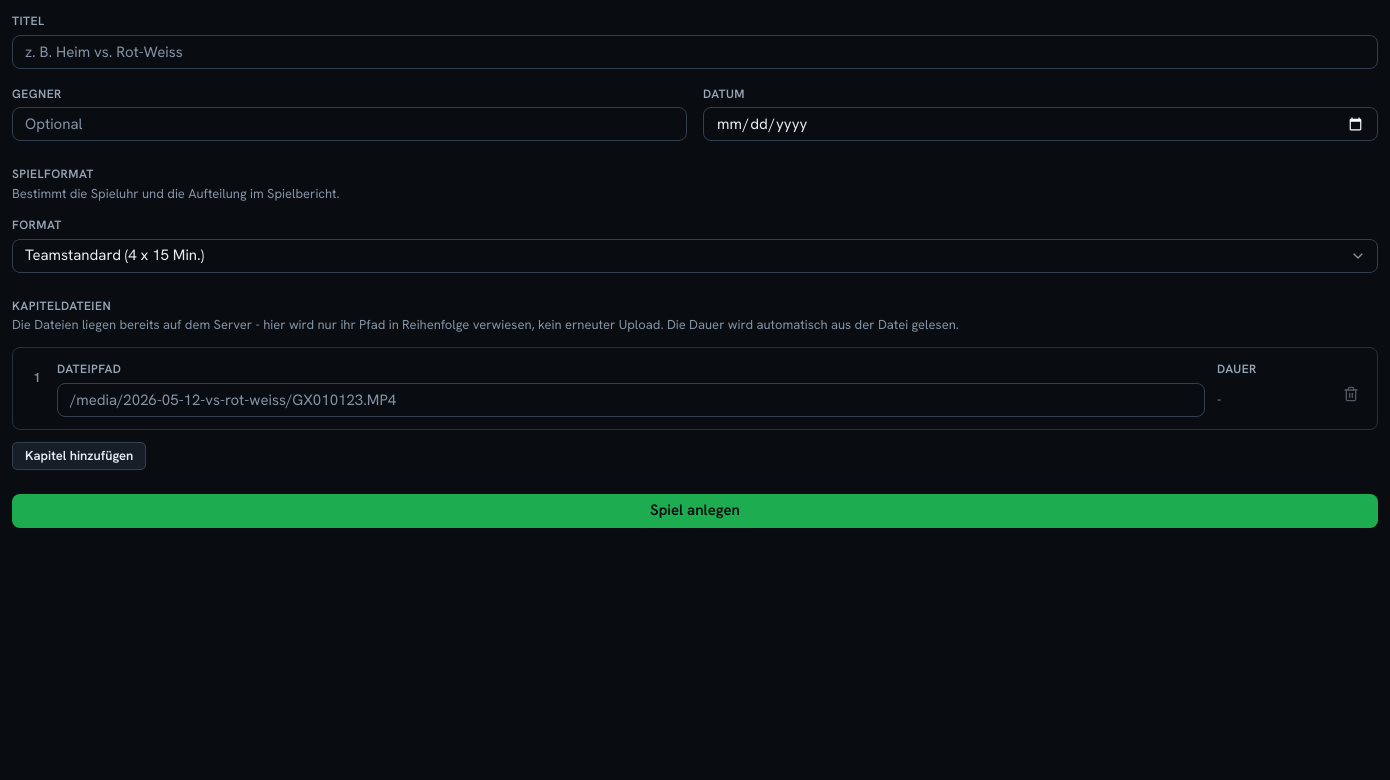
Test: GameForm chapter durations › flags a file that cannot be read and submits no duration
In the field labelled "Dateipfad": (631, 400) [57, 383, 1205, 417], type "/media/typo.MP4"
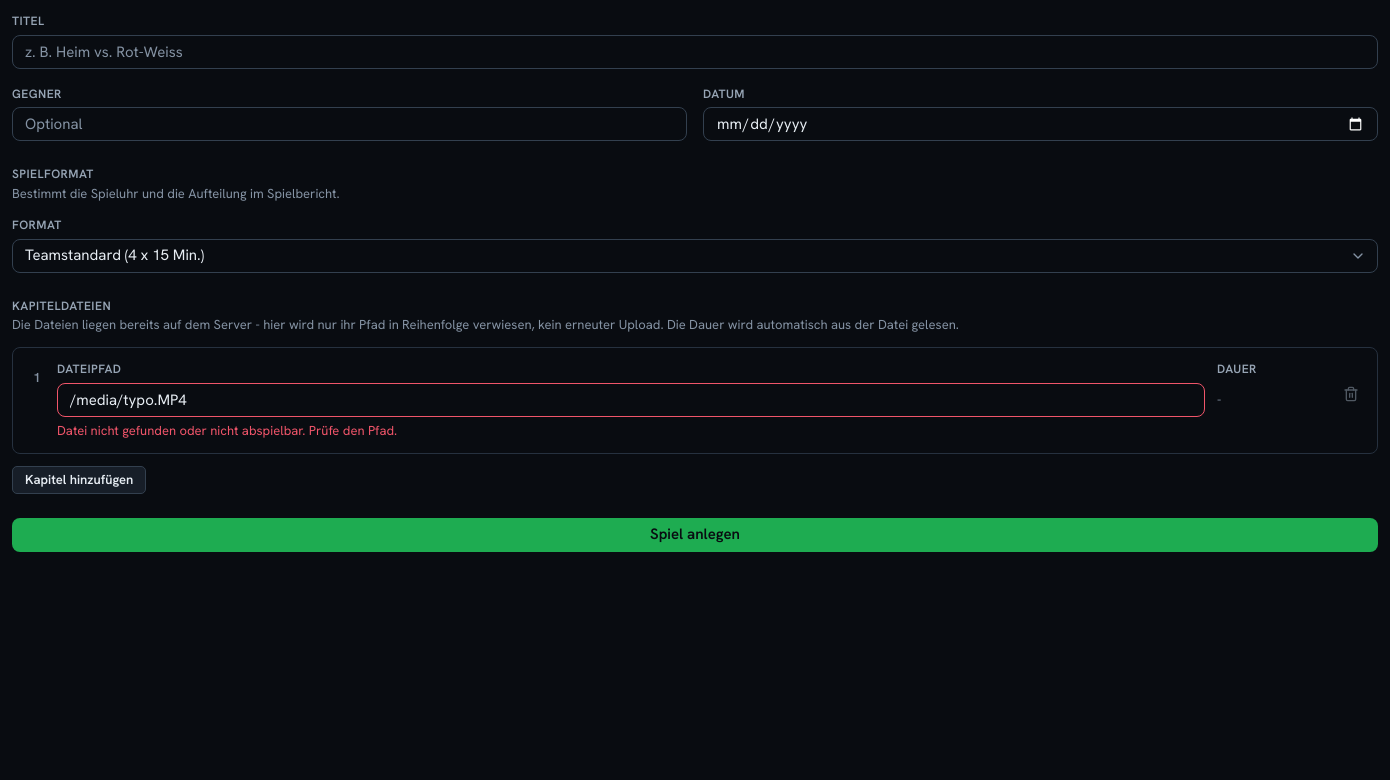
Result: the text "Datei nicht gefunden oder nicht abspielbar. Prüfe den Pfad." is shown at [57, 422, 397, 439]
